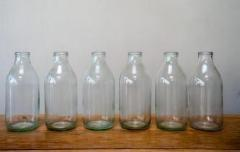glass: (6, 52, 222, 132)
